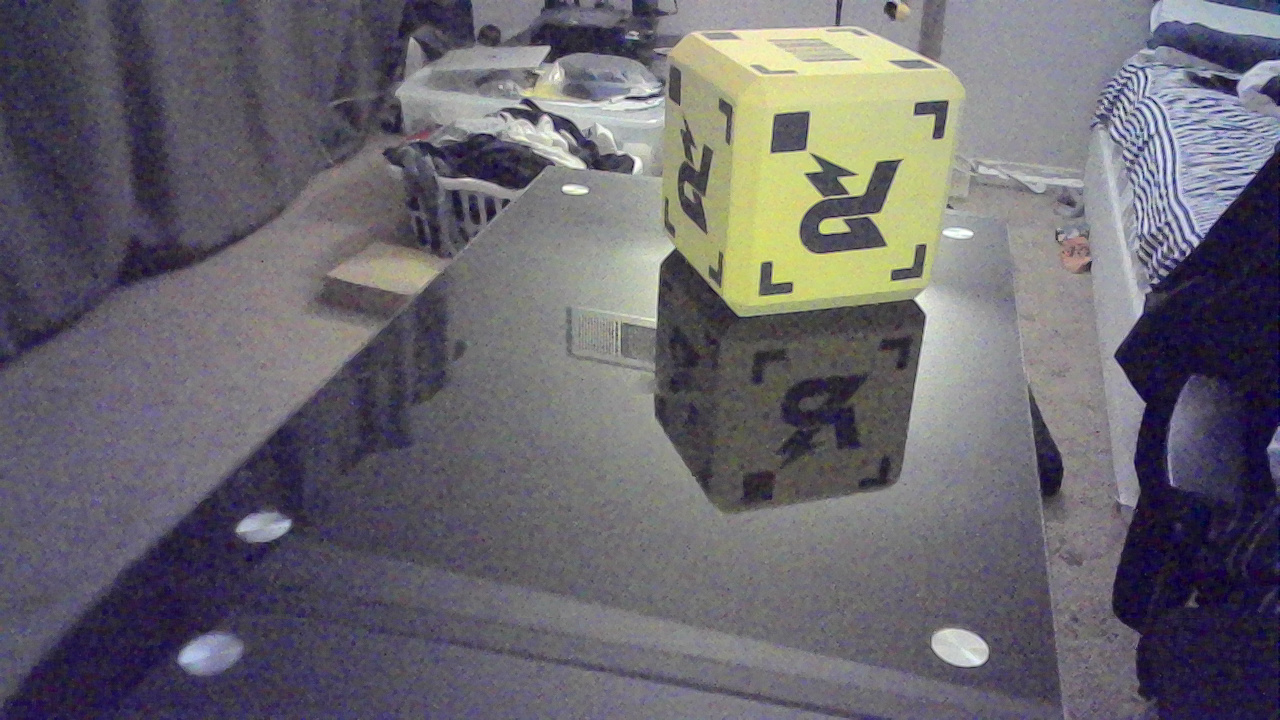Barcode: (777, 45, 870, 72)
R: (798, 149, 911, 257), (682, 132, 716, 239)
